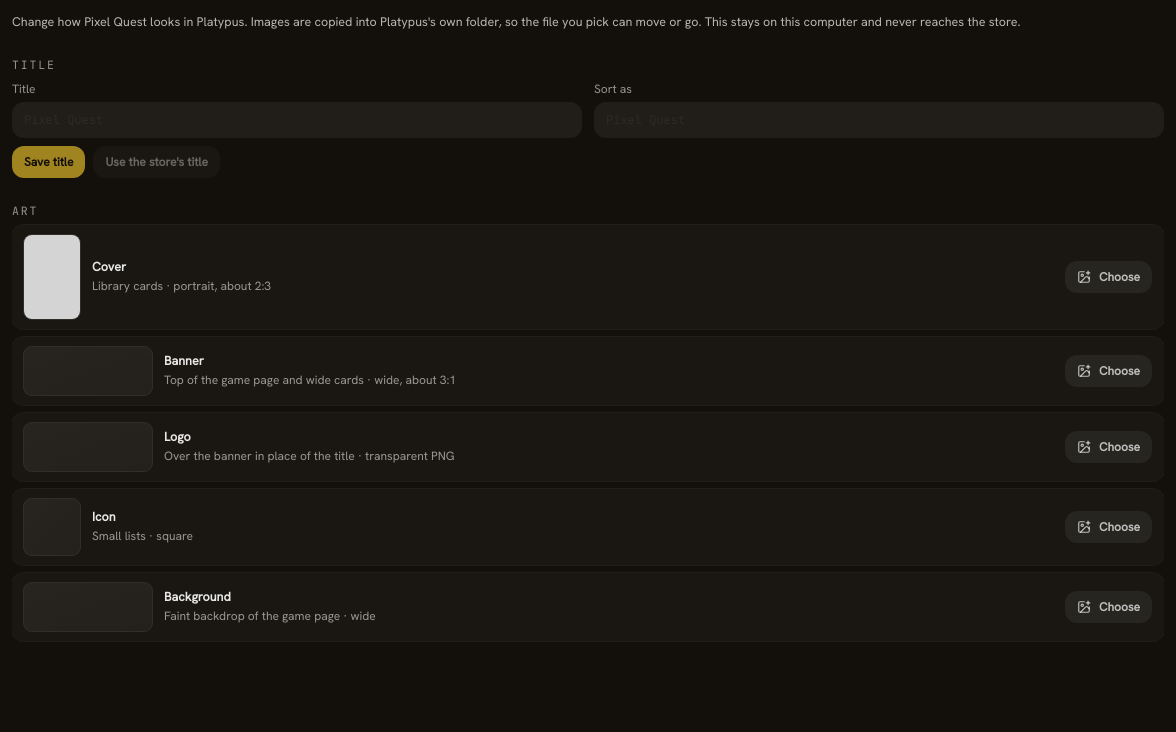
Scenario: CustomizationTab › saves the title and the sort title and tells the owner
Type "PQ" into the field named "Custom title" at [297, 120], box [12,102,582,138]
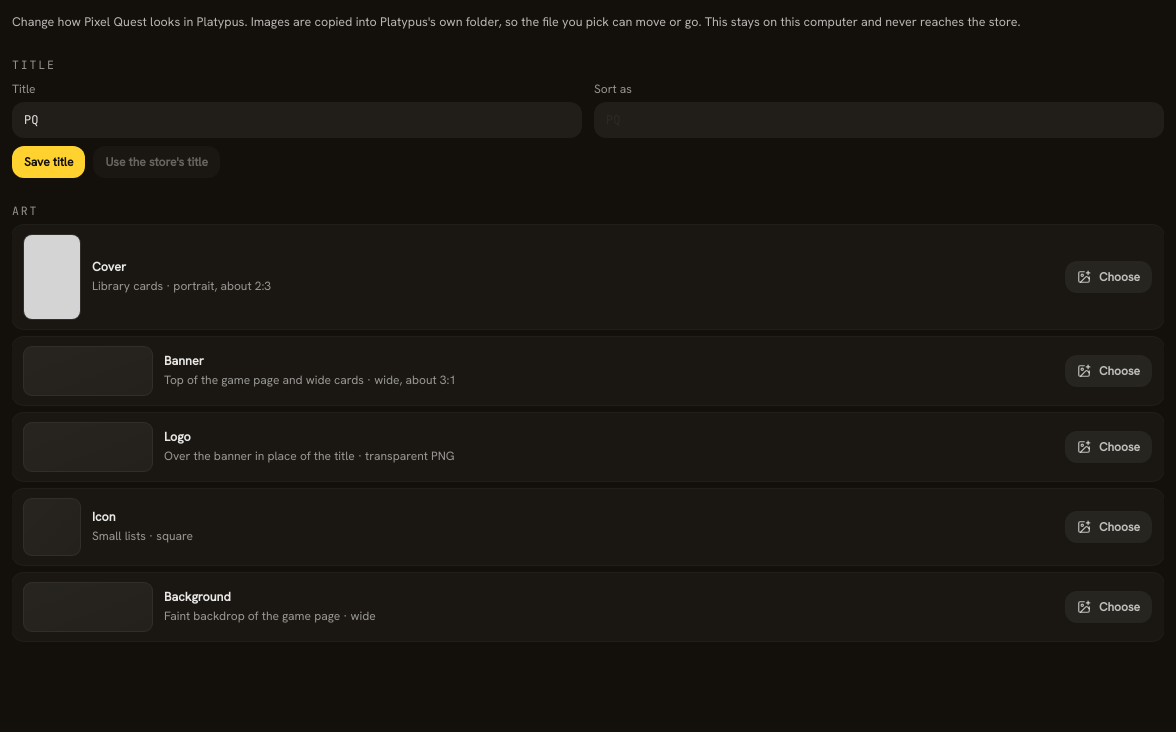
Type "Pixel" into the field named "Sort title" at [879, 120], box [594,102,1164,138]
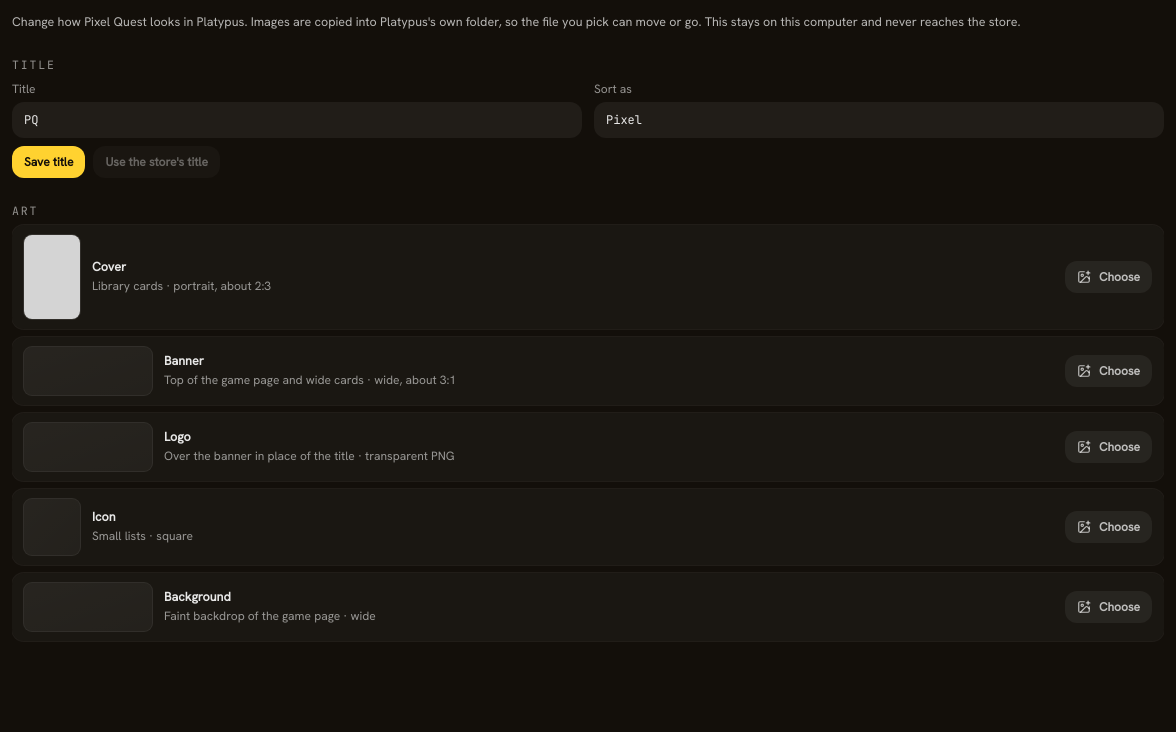
Click the button "Save title" at [49, 162], box [12,146,86,178]
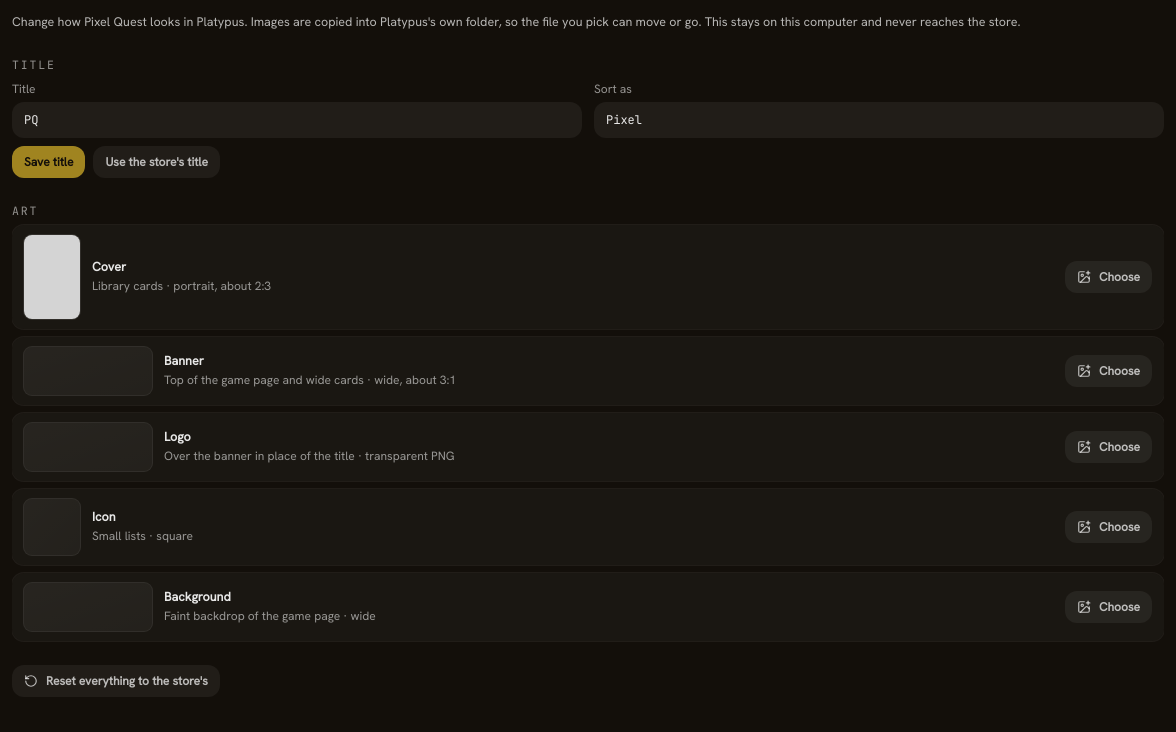
Expected: the button "Save title" is disabled, [12,146,86,178]
Expected: the button "Reset everything to the store's" is shown, [12,665,220,697]
